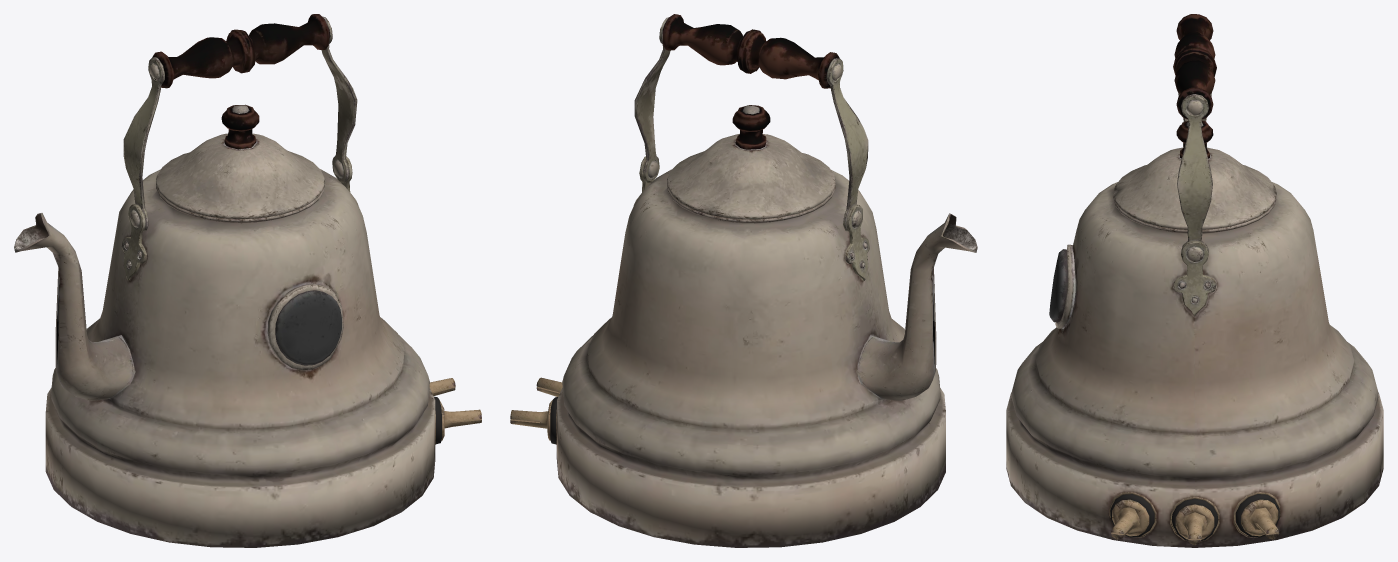
File: vintage_electric_kettle.glb
3 views of the same model, side by side, from view 1: azimuth 30°, elevation 25°; view 2: azimuth 150°, elevation 25°; view 3: azimuth 270°, elevation 25° (orthographic). The views are drawn at different scales.
Visible parts, largest first — view 1: vintage_electric_kettle; view 2: vintage_electric_kettle; view 3: vintage_electric_kettle.
Part boxes in pixels (bbox=[...]): vintage_electric_kettle: bbox=[14, 14, 481, 547]; vintage_electric_kettle: bbox=[510, 14, 977, 547]; vintage_electric_kettle: bbox=[1006, 14, 1383, 547].
Bounding box in the file's own units: 0.3208 × 0.3044 × 0.2478.
2 materials, 2 textured.
